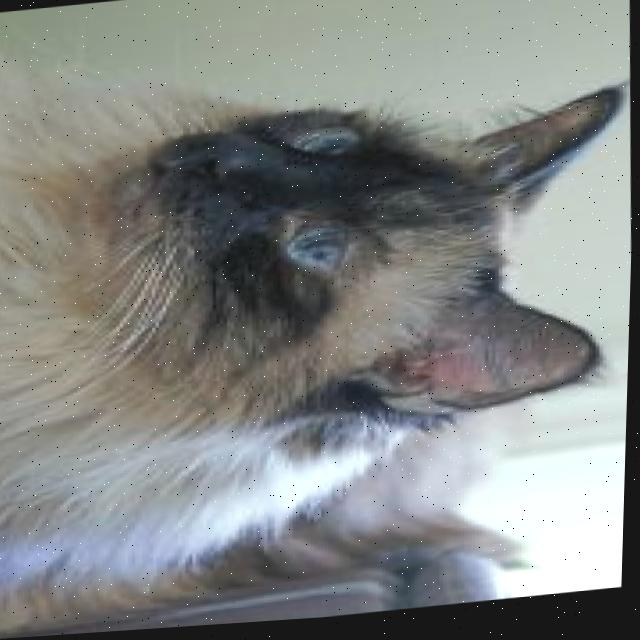Birman: (0, 0, 640, 601)
